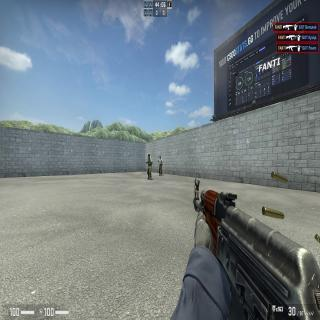CT-Body: (147, 153, 152, 181)
CT-Head: (148, 153, 150, 158)
T-Body: (159, 157, 162, 176)
T-Head: (160, 156, 161, 160)
